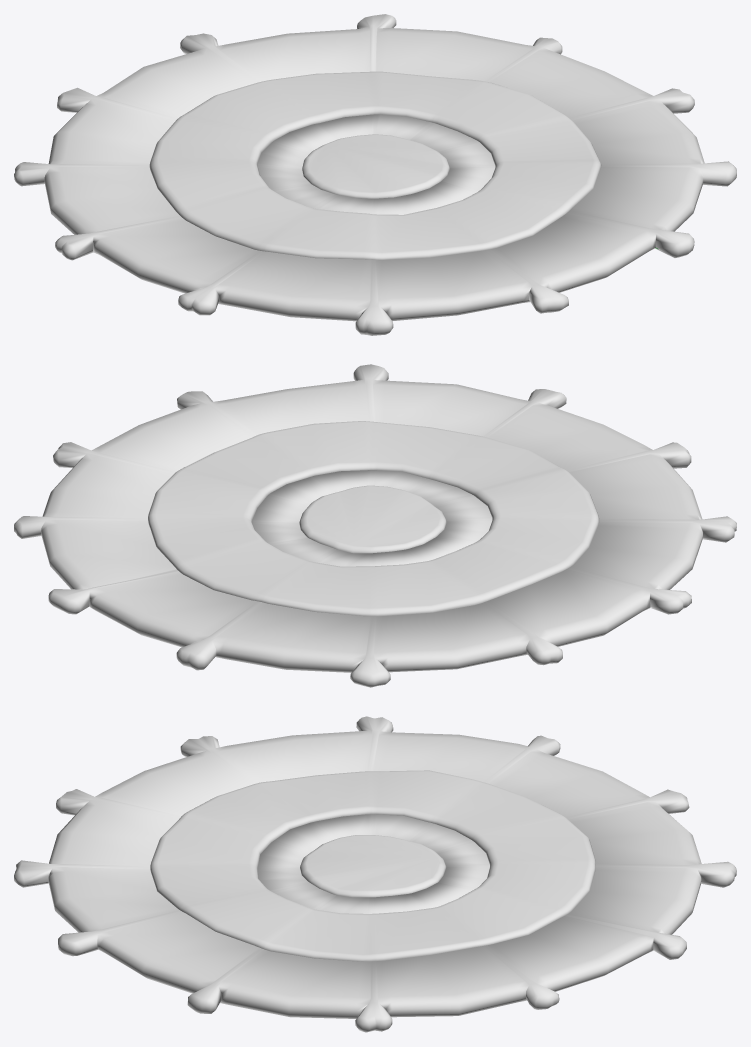
Rendered from circular_rug.fbx.
The picture shows the model from 3 angles, top to bottom: view 1: azimuth 30°, elevation 25°; view 2: azimuth 150°, elevation 25°; view 3: azimuth 270°, elevation 25°; orthographic projection.
Parts seen in each view (by area): view 1: rug_1; view 2: rug_1; view 3: rug_1.
Part boxes in pixels (left/top/right/bottom): rug_1: left=14, top=14, right=736, bottom=335; rug_1: left=14, top=364, right=736, bottom=687; rug_1: left=14, top=716, right=736, bottom=1032.
Bounding box in the file's own units: 2.23 × 0.0875 × 2.23.
Materials: 2 (1 with a texture image).
